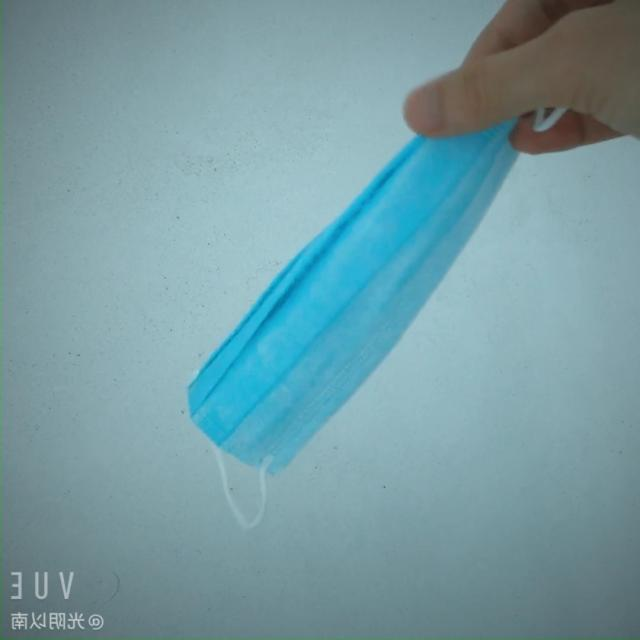face mask: (161, 70, 570, 480)
